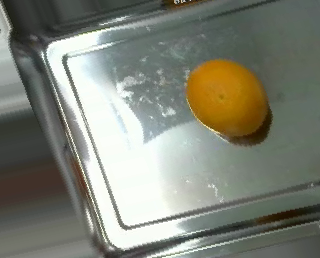Orange: (186, 58, 270, 137)
